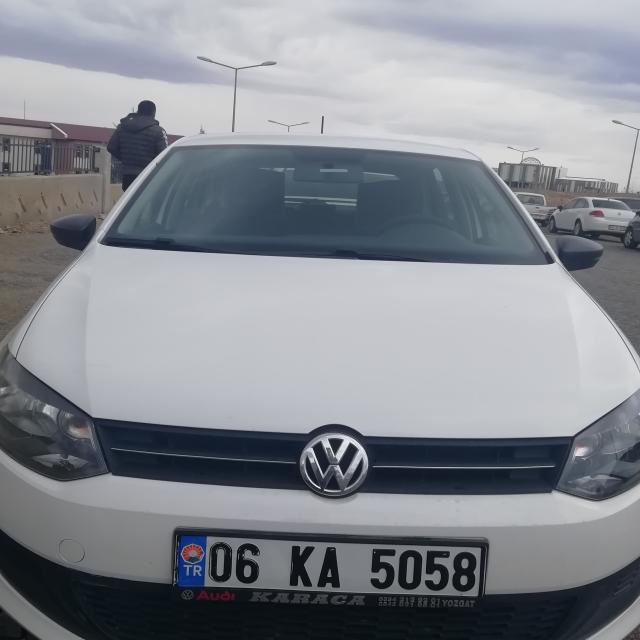license_plate: (175, 534, 486, 593)
